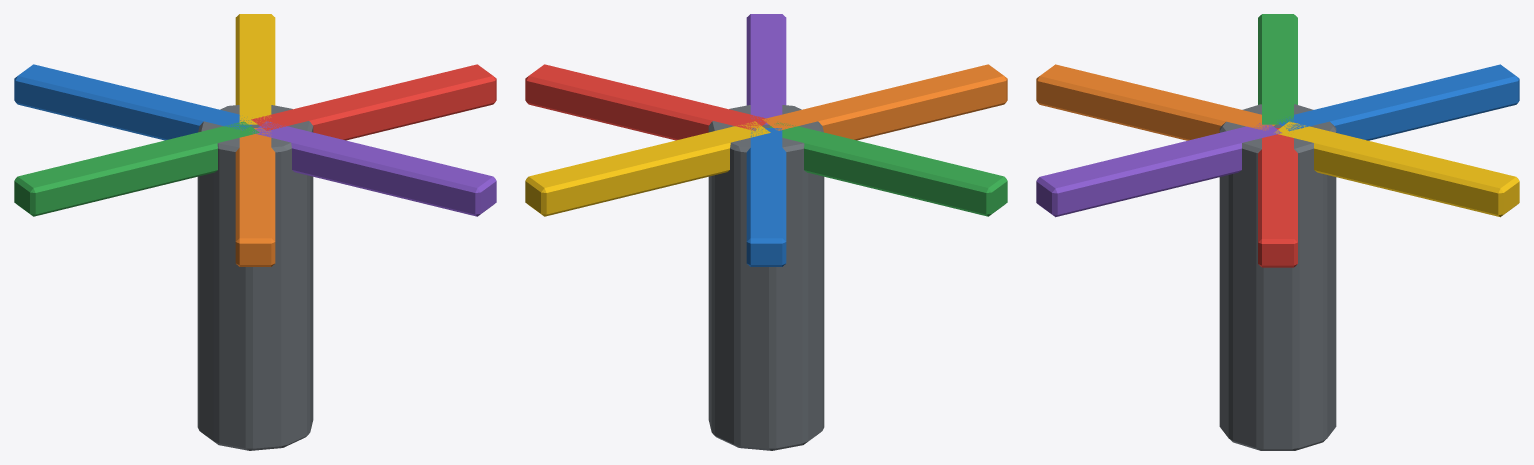
The model's file is spinning_ride.glb.
The picture shows the model from 3 angles, left to right: view 1: azimuth 30°, elevation 25°; view 2: azimuth 150°, elevation 25°; view 3: azimuth 270°, elevation 25°; orthographic projection.
Visible parts, largest first — view 1: spinning_ride; view 2: spinning_ride; view 3: spinning_ride.
Boxes of the visible parts, x1,y1,x2,y2 form: spinning_ride: [14, 14, 496, 450]; spinning_ride: [525, 14, 1007, 450]; spinning_ride: [1036, 14, 1519, 450].
Size of the model in its own units: 0.68 by 0.42 by 0.6089.
